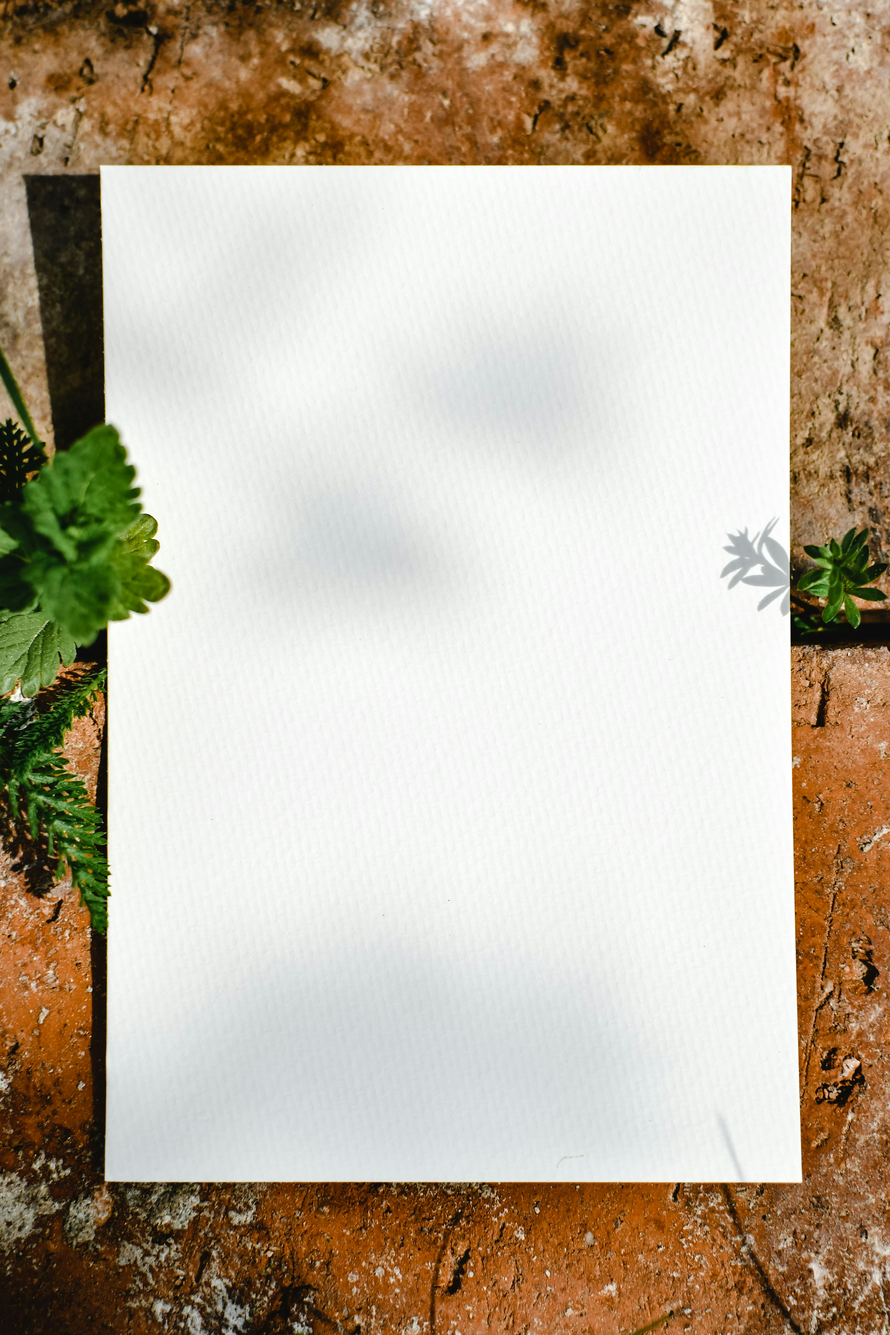paper: (100, 164, 800, 1182)
